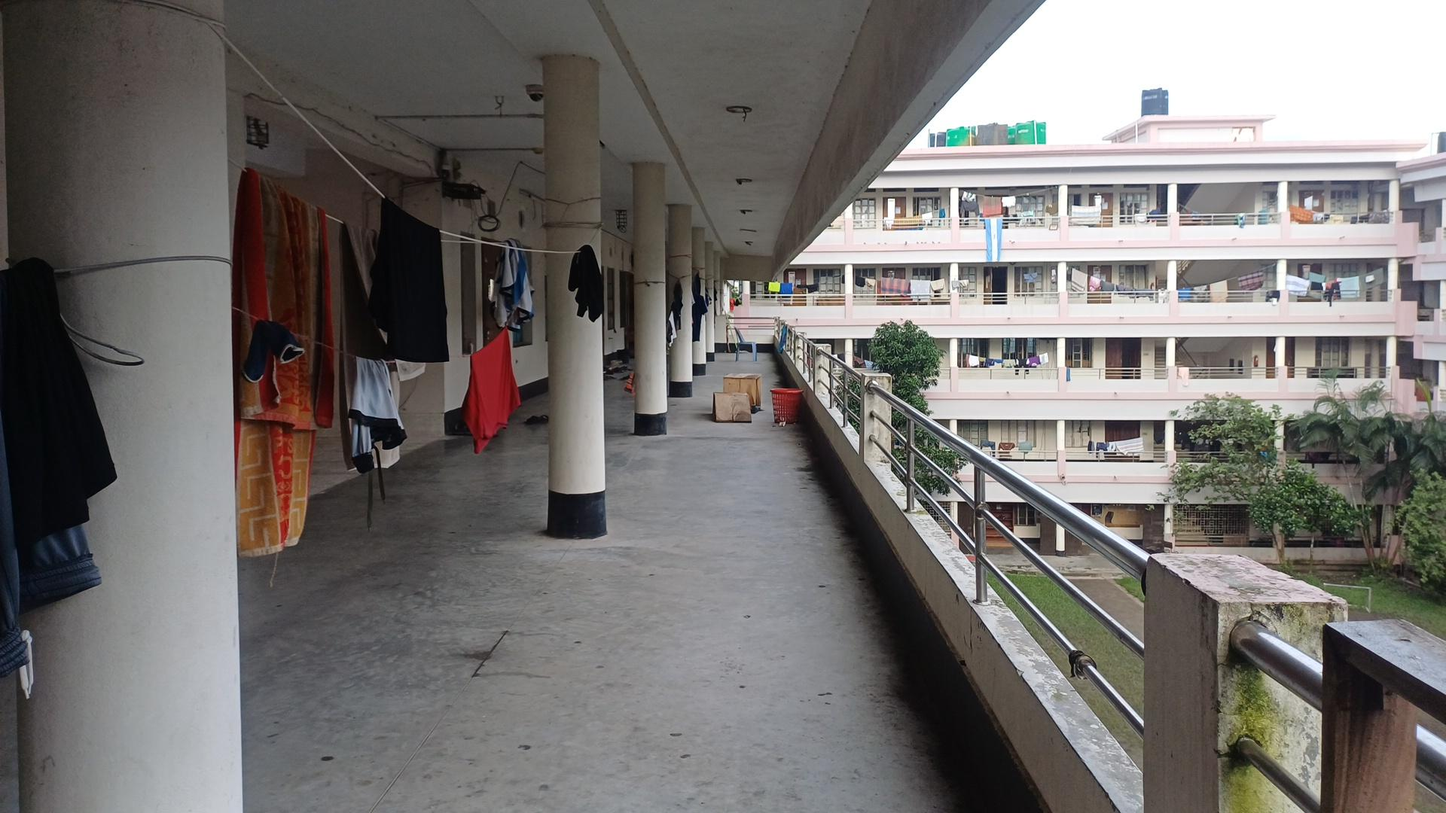Basket: (768, 378, 809, 438)
Stool: (708, 354, 755, 441)
Towel: (218, 155, 340, 574)
